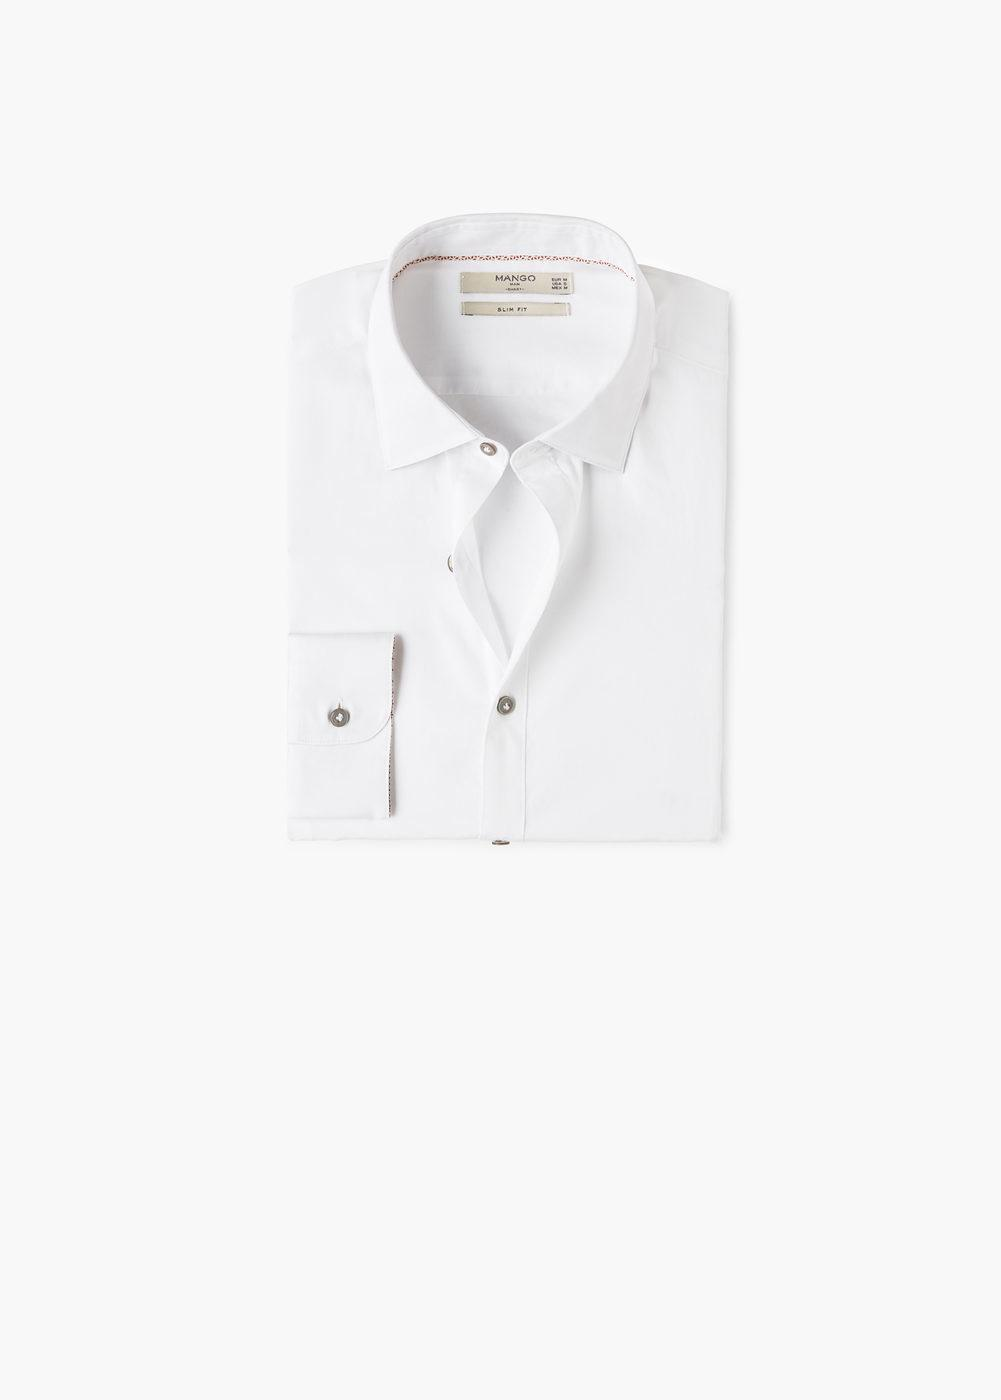teeshirt: (266, 210, 755, 865)
